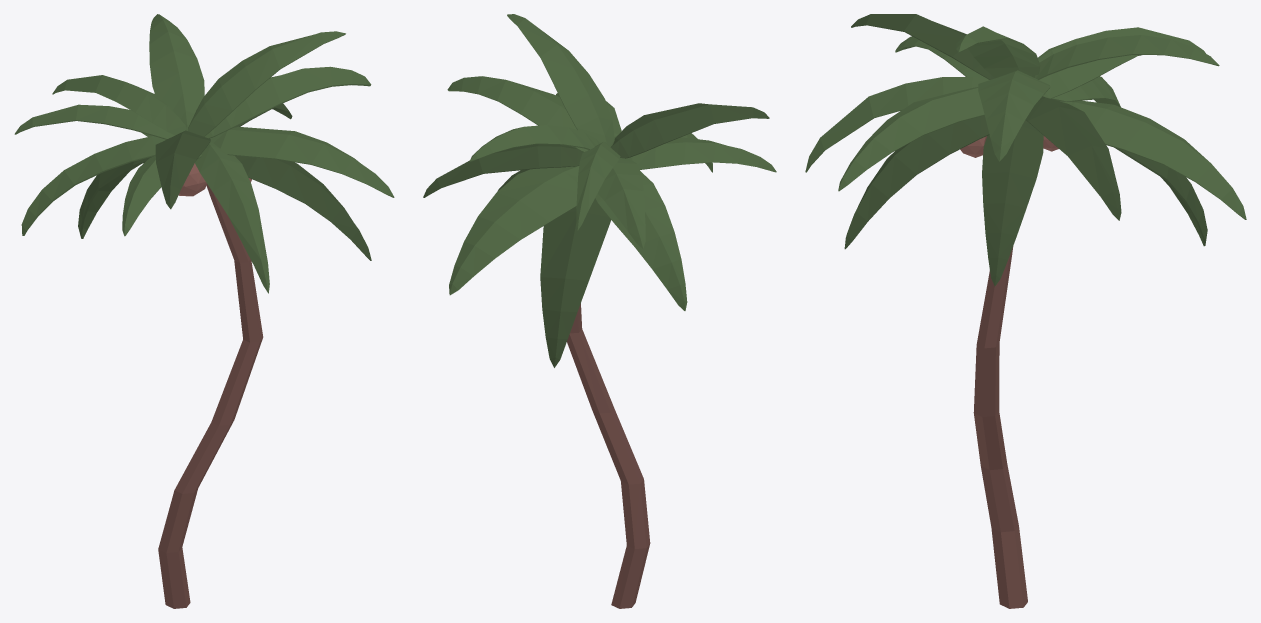
File: PalmTree_4.glb
The picture shows the model from 3 angles, left to right: view 1: azimuth 30°, elevation 25°; view 2: azimuth 150°, elevation 25°; view 3: azimuth 270°, elevation 25°; orthographic projection. The views are drawn at different scales.
Parts seen in each view (by area): view 1: PalmTree_4; view 2: PalmTree_4; view 3: PalmTree_4.
Boxes of the visible parts, left/top/right/bottom form: PalmTree_4: left=14, top=14, right=394, bottom=608; PalmTree_4: left=423, top=14, right=776, bottom=608; PalmTree_4: left=805, top=14, right=1246, bottom=608.
Bounding box in the file's own units: 1.81 × 3.25 × 2.04.
